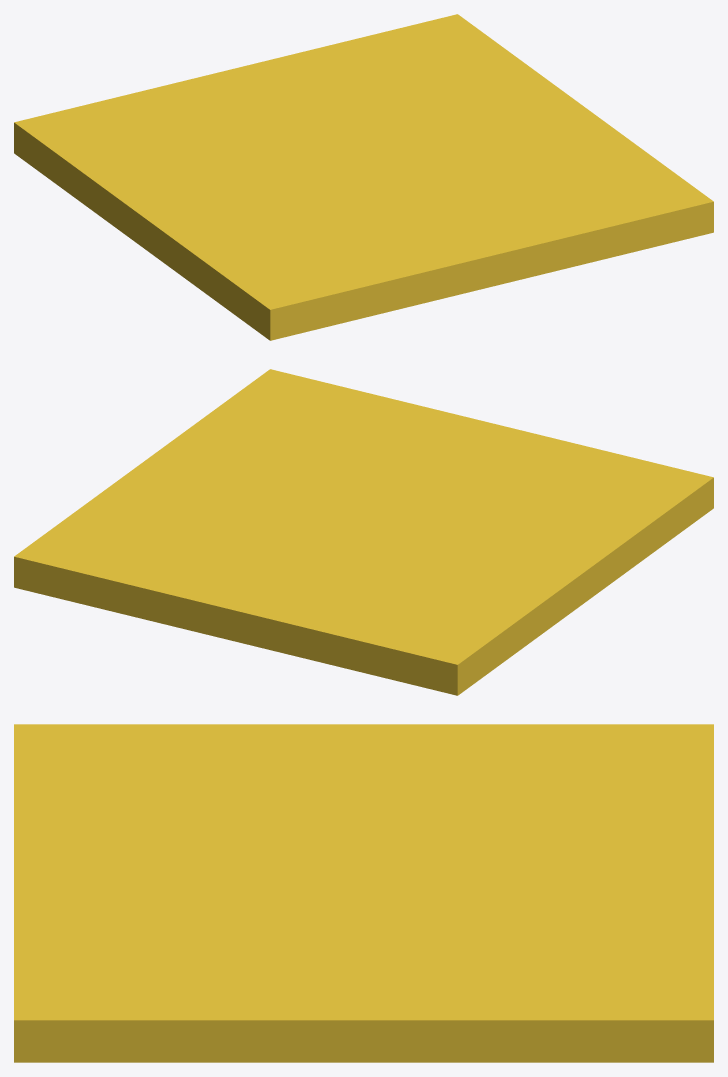
The model's file is Floor_A_LineHalf.FBX.
3 views of the same model, one above another, from view 1: azimuth 30°, elevation 25°; view 2: azimuth 150°, elevation 25°; view 3: azimuth 270°, elevation 25° (orthographic). The views are drawn at different scales.
Parts seen in each view (by area): view 1: Floor_A_LineHalf; view 2: Floor_A_LineHalf; view 3: Floor_A_LineHalf.
Part boxes in pixels (x1,y1,x2,y2): Floor_A_LineHalf: (14, 14, 713, 340); Floor_A_LineHalf: (14, 369, 713, 695); Floor_A_LineHalf: (14, 724, 713, 1062).
Bounding box in the file's own units: 300 × 20 × 300.
